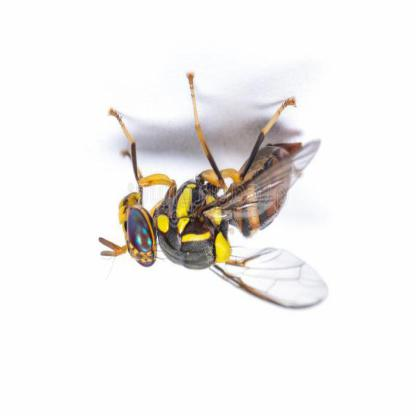fruit fly: (98, 76, 329, 311)
